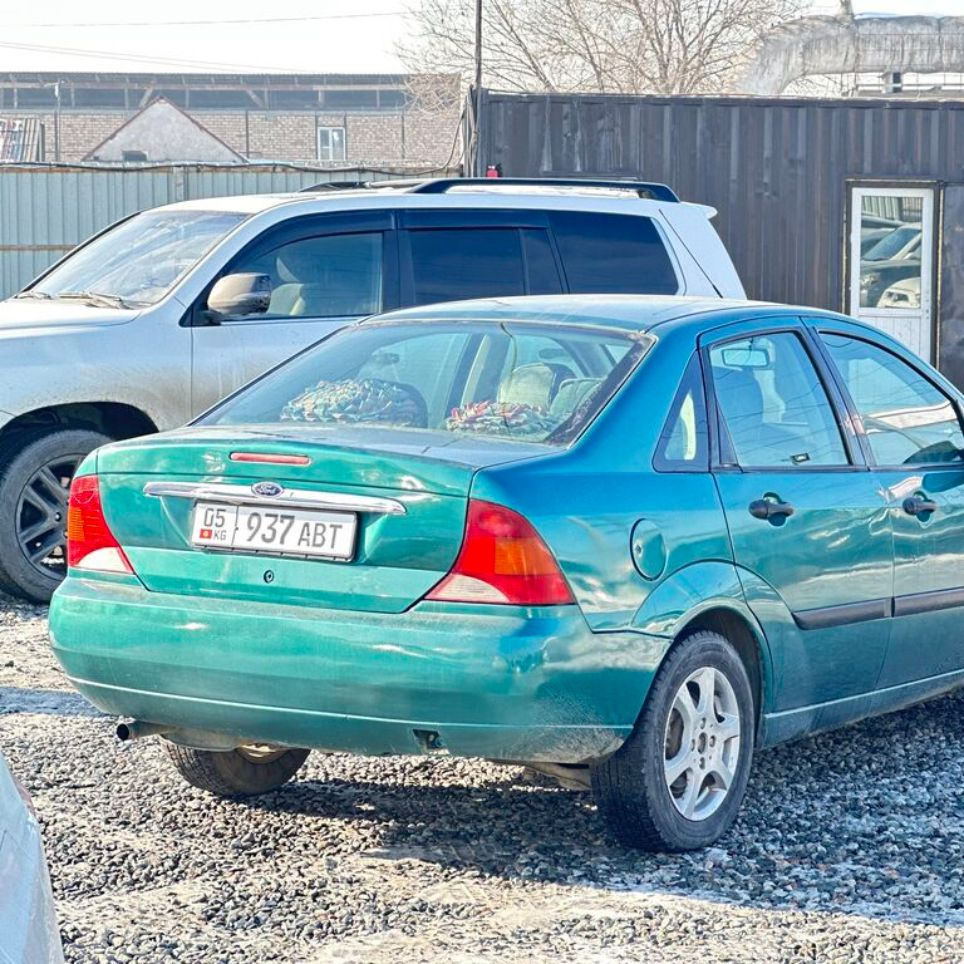license plate: (187, 500, 358, 558)
truck: (44, 296, 963, 848)
